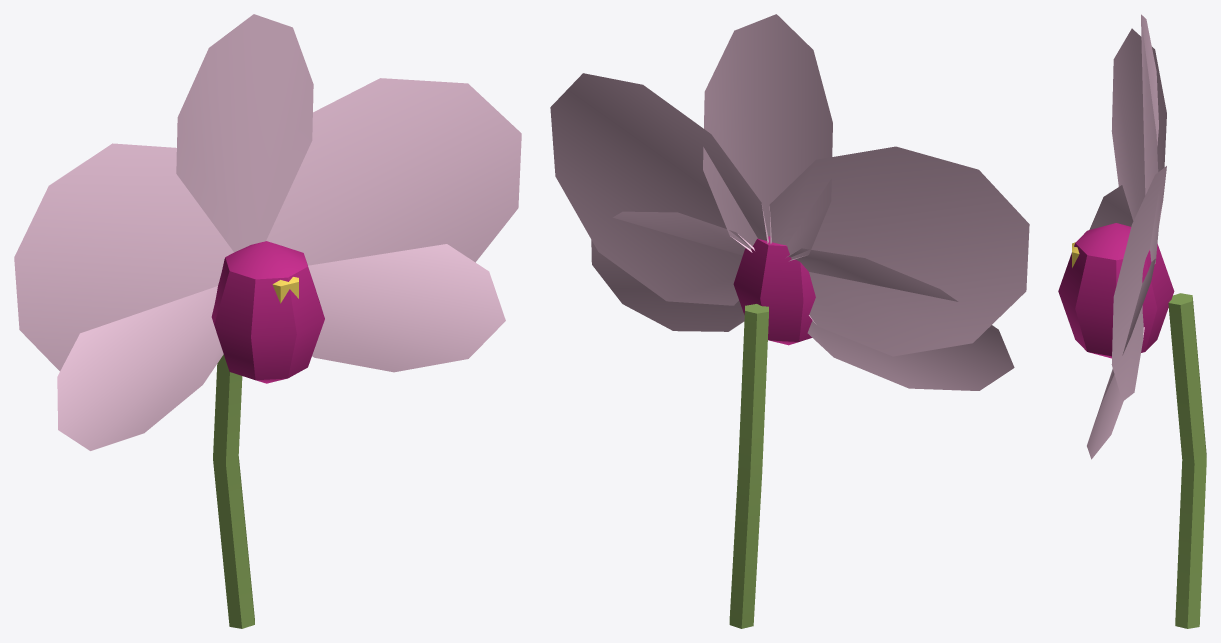
The model's file is JAC_30_Flor_Orquidea.glb.
The picture shows the model from 3 angles, left to right: view 1: azimuth 30°, elevation 25°; view 2: azimuth 150°, elevation 25°; view 3: azimuth 270°, elevation 25°; orthographic projection. The views are drawn at different scales.
Parts seen in each view (by area): view 1: JAC_30_Flor_Orquidea; view 2: JAC_30_Flor_Orquidea; view 3: JAC_30_Flor_Orquidea.
Part boxes in pixels (x1=…): JAC_30_Flor_Orquidea: x1=14, y1=14, x2=521, y2=628; JAC_30_Flor_Orquidea: x1=550, y1=14, x2=1029, y2=628; JAC_30_Flor_Orquidea: x1=1058, y1=14, x2=1206, y2=628.
Bounding box in the file's own units: 0.1598 × 0.1897 × 0.0422.
